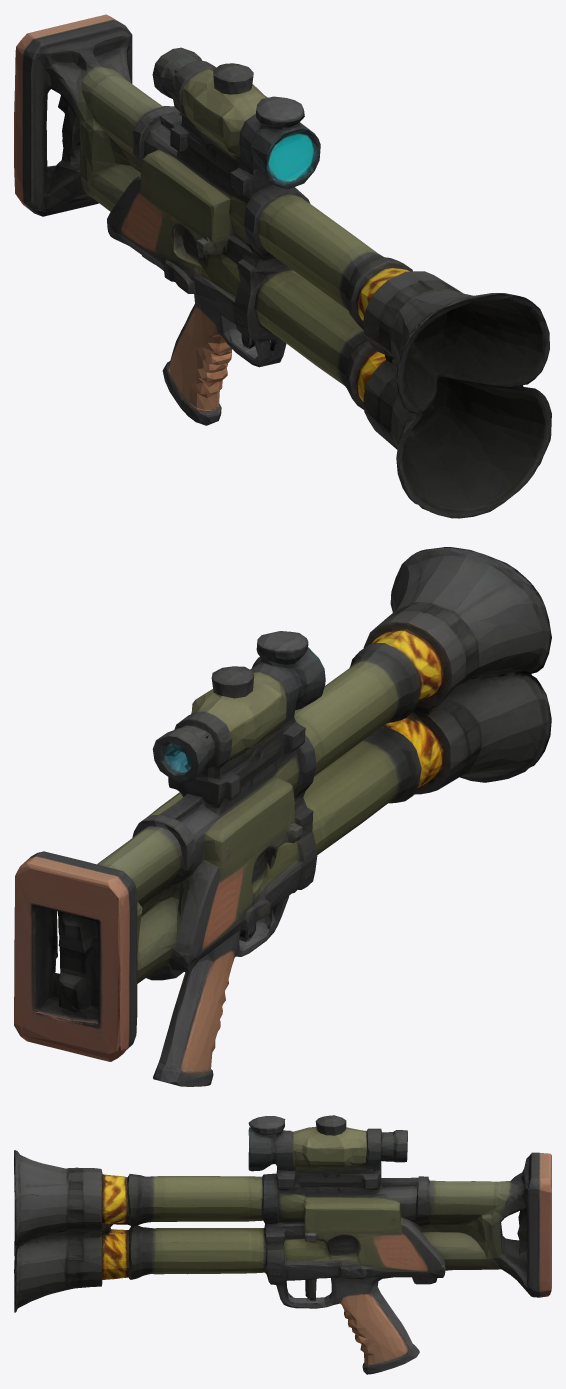
File: rocket.glb
3 renders of one model, top to bottom at view 1: azimuth 30°, elevation 25°; view 2: azimuth 150°, elevation 25°; view 3: azimuth 270°, elevation 25°, orthographic. The views are drawn at different scales.
Visible parts, largest first — view 1: geometry_0; view 2: geometry_0; view 3: geometry_0.
Boxes of the visible parts, left/top/right/bottom form: geometry_0: left=14, top=14, right=551, bottom=518; geometry_0: left=14, top=547, right=551, bottom=1086; geometry_0: left=14, top=1115, right=551, bottom=1374.
Size of the model in its own units: 0.2246 by 0.5213 by 1.
1 material, 1 textured.
